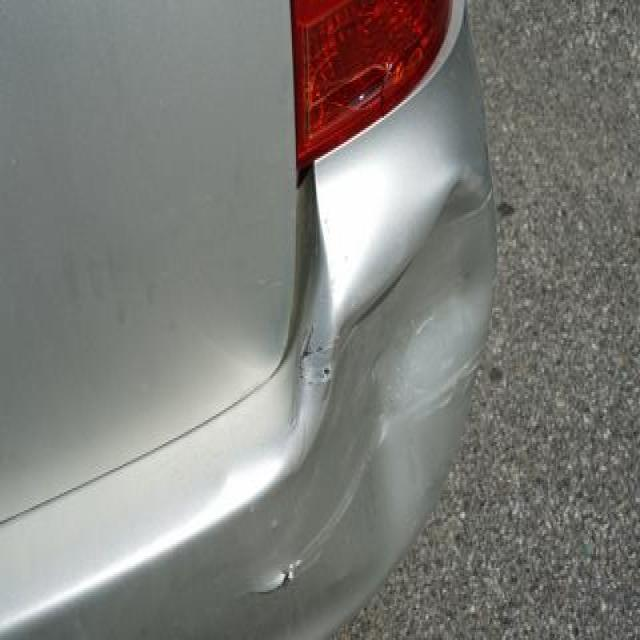dent: (215, 164, 500, 630)
